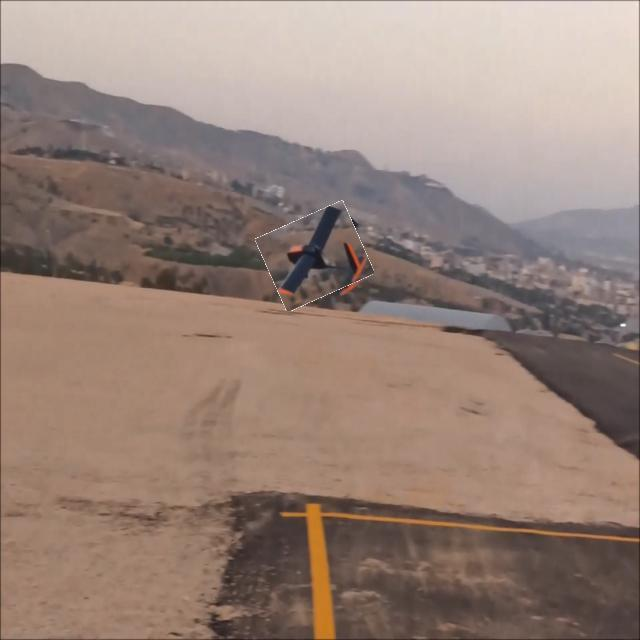iha: (297, 235, 350, 280)
